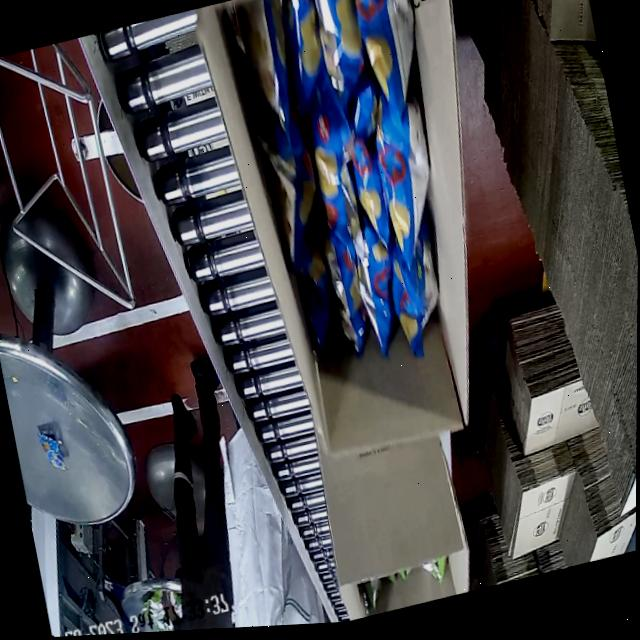PAPRIKA: (236, 0, 466, 390)
